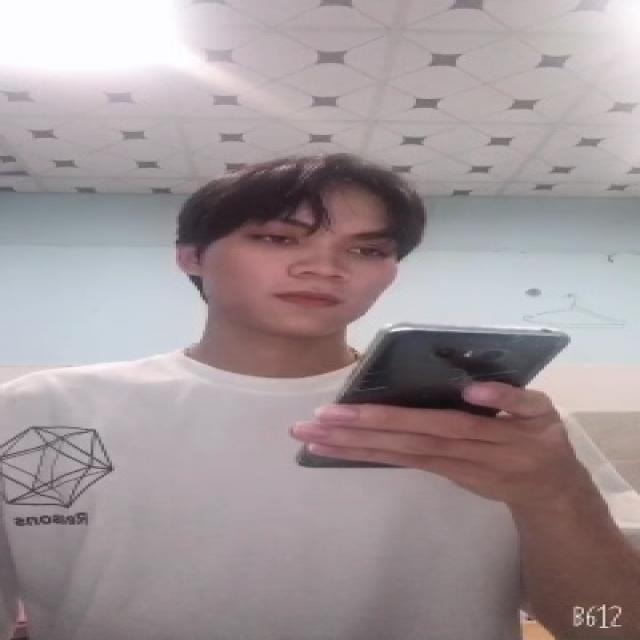Phone: (291, 320, 574, 469)
